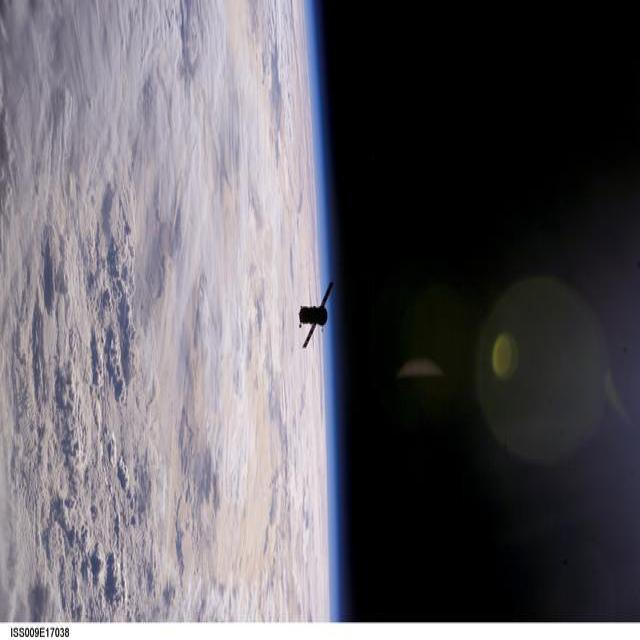satellite: (300, 281, 334, 347)
